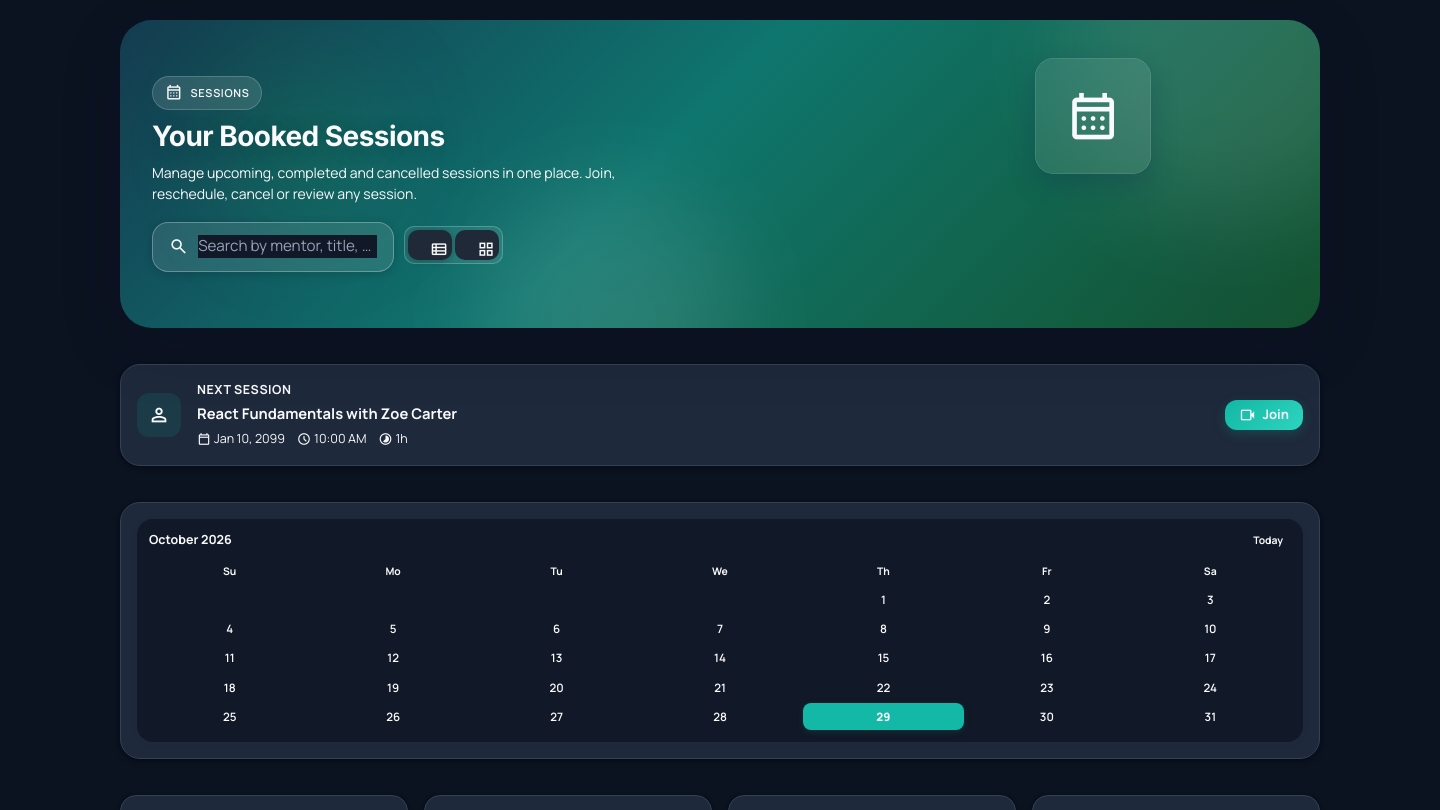
LearnerSessionsPage — Booked Sessions › filters booked sessions as you type (case-insensitive) and restores on clear
The width and height of the screenshot is (1440, 810).
In the field named "search sessions": x=288, y=247 [198,235,377,258], type "  zoe carter  "
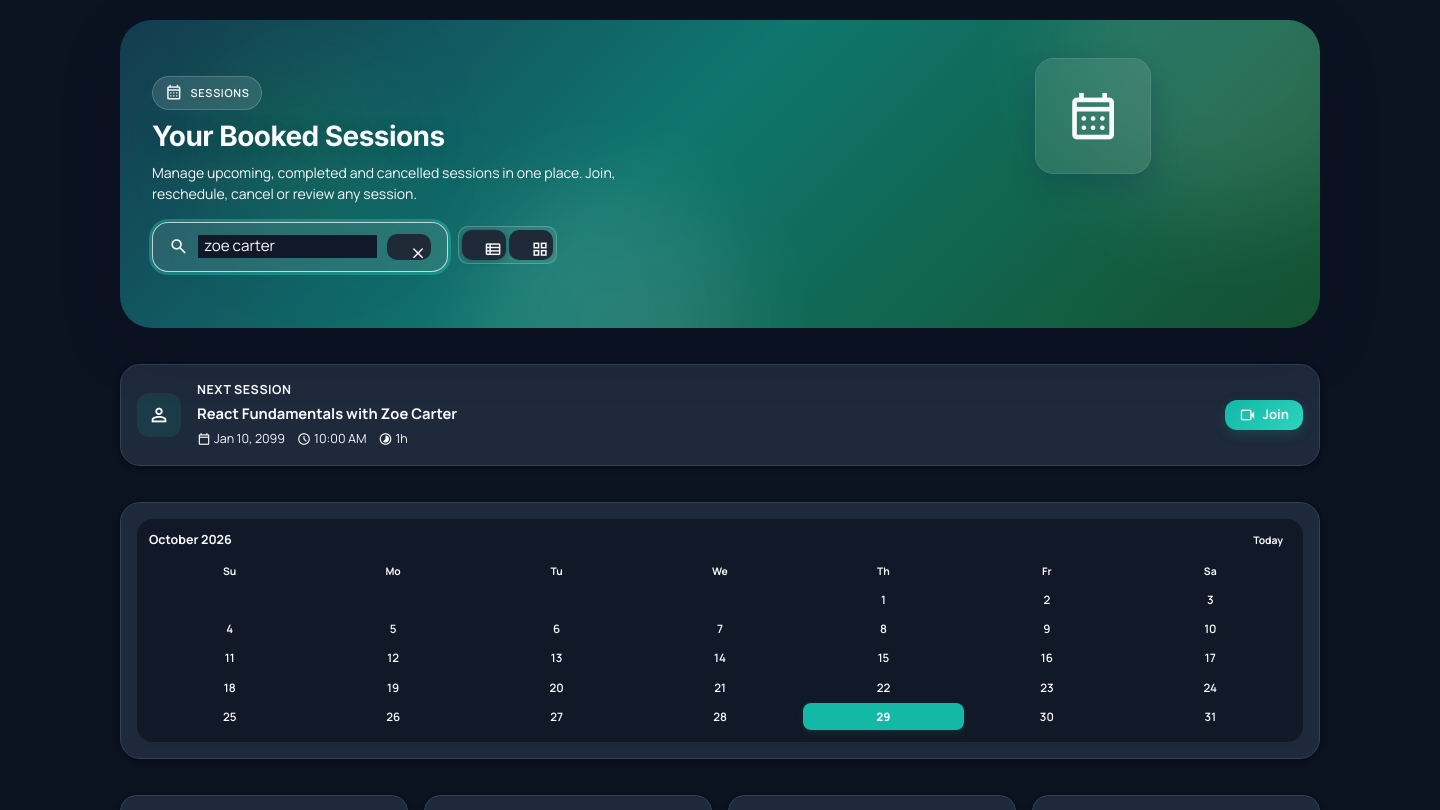
Expected: the text "System Design Deep Dive" is not shown
Click the button named "clear search": x=409, y=247 [387,234,431,260]
(page scrolled)
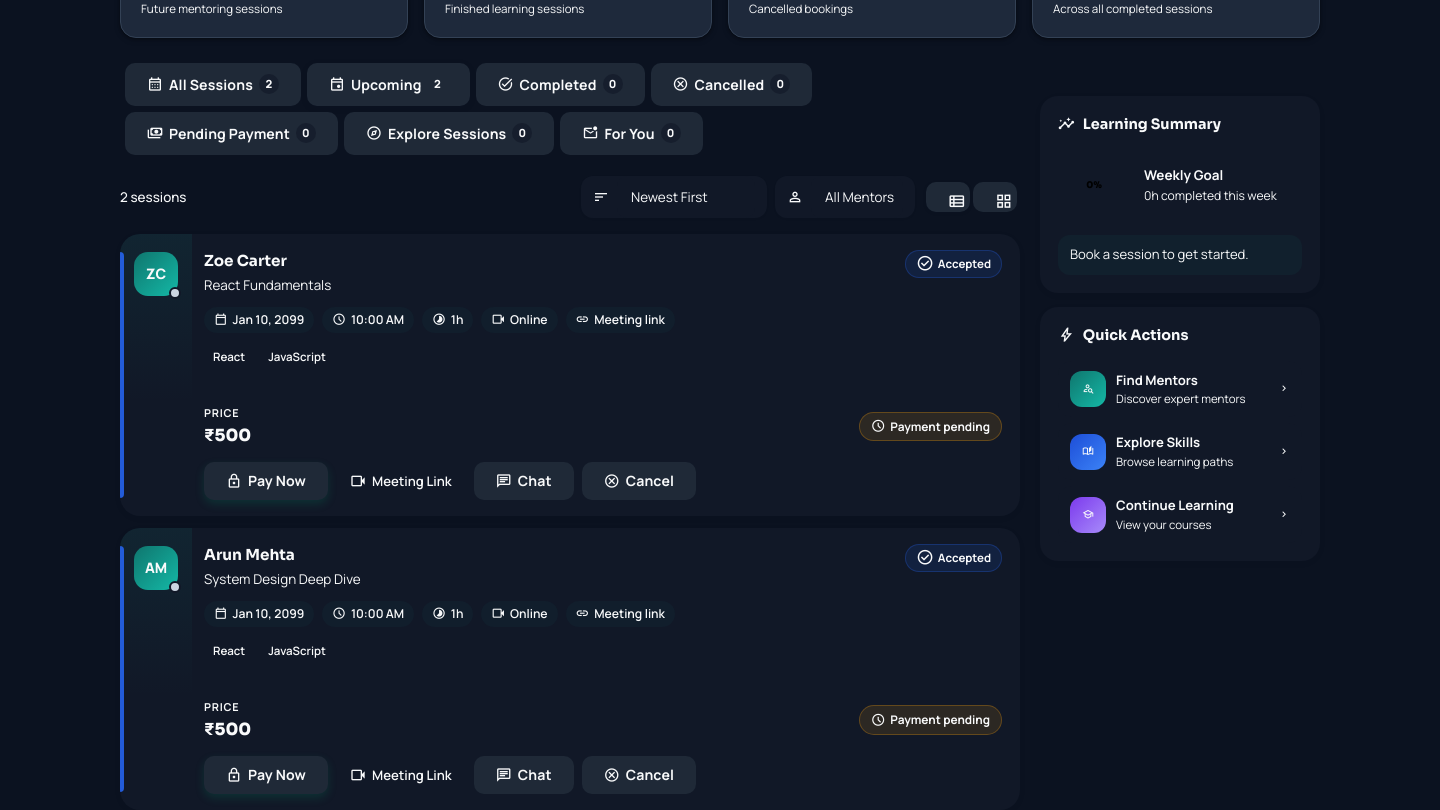
Result: the text "System Design Deep Dive" is shown at [204,570,361,588]
